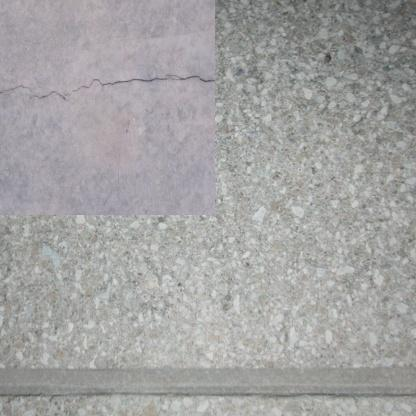Cracks: (65, 67, 198, 86), (29, 82, 62, 93), (0, 76, 29, 88)
